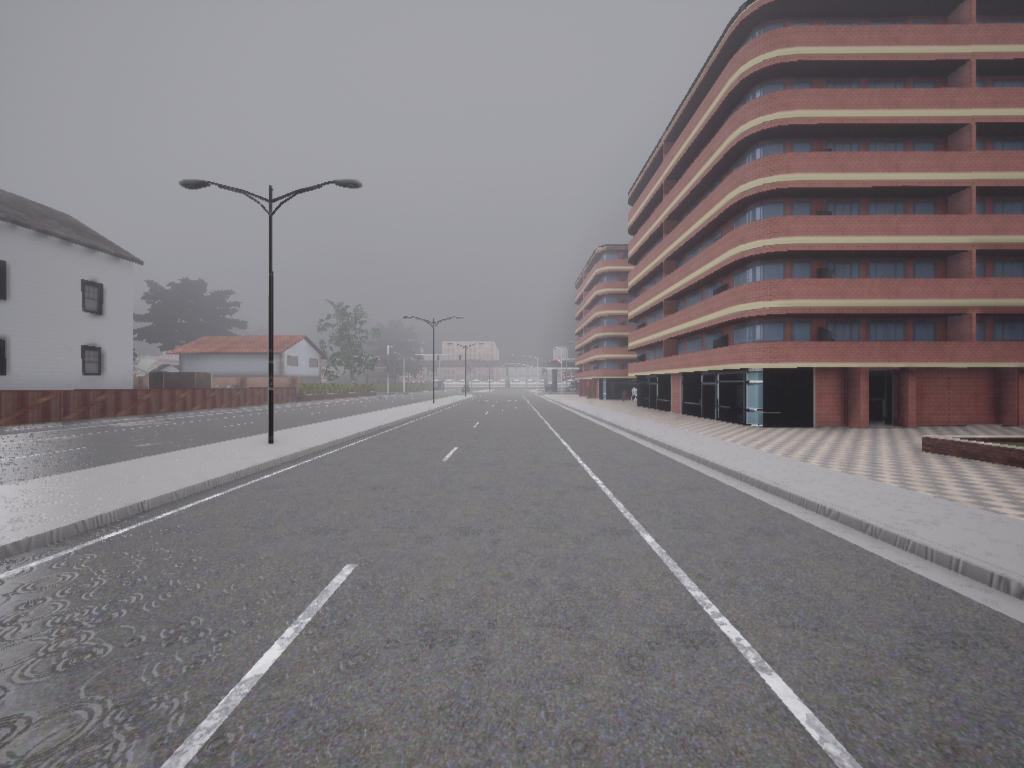traffic_light: (418, 356, 422, 362), (515, 362, 518, 369), (437, 356, 440, 362), (459, 356, 462, 362), (502, 363, 505, 369)
